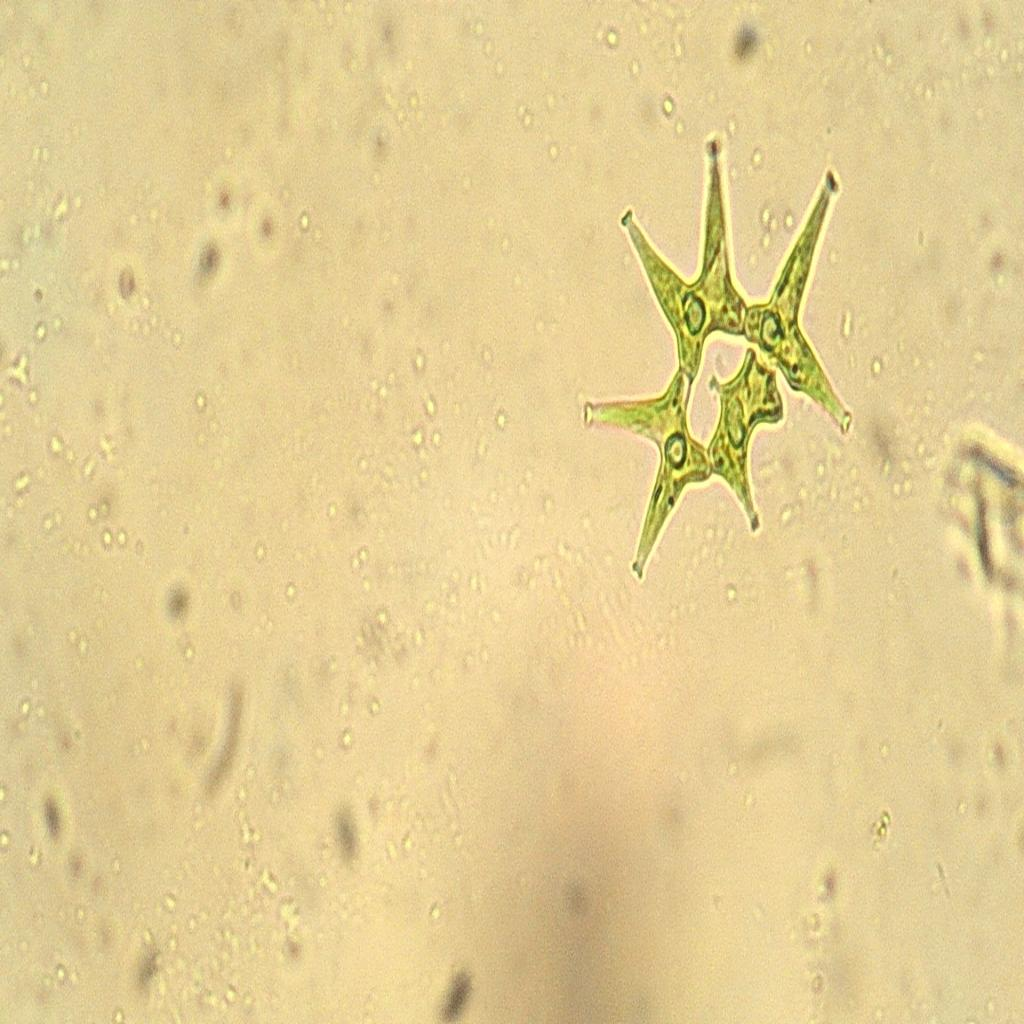Pediastrum_CF: (545, 125, 889, 596)
